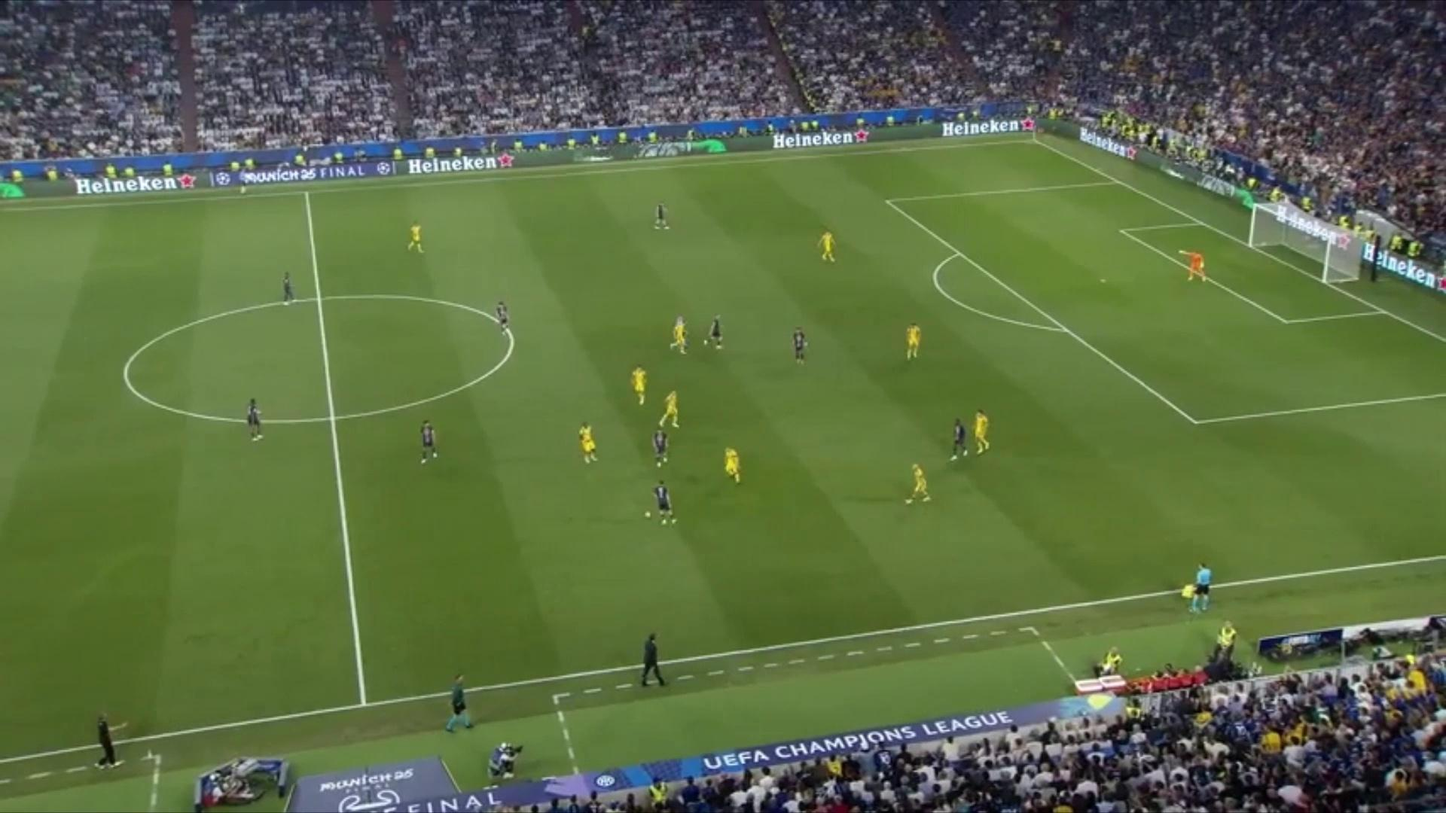ball: (645, 511, 651, 518)
